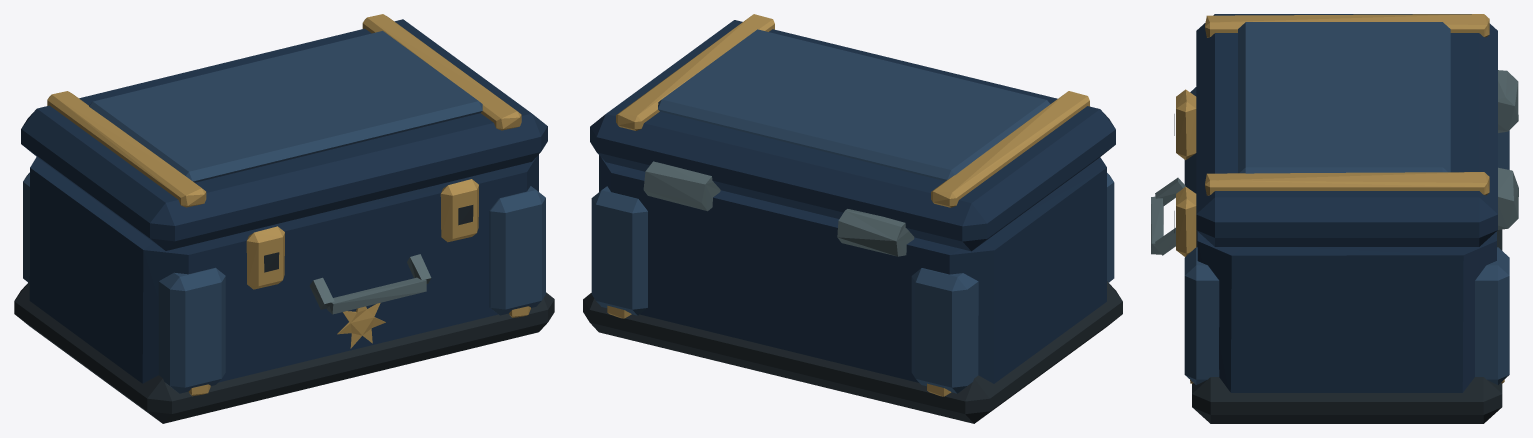
Rendered from FERNSTONE_WEAPON_CASE.lo.glb.
3 views of the same model, side by side, from view 1: azimuth 30°, elevation 25°; view 2: azimuth 150°, elevation 25°; view 3: azimuth 270°, elevation 25° (orthographic). The views are drawn at different scales.
Visible parts, largest first — view 1: Body_Mesh, LidPivot_Mesh; view 2: Body_Mesh, LidPivot_Mesh; view 3: LidPivot_Mesh, Body_Mesh.
Boxes of the visible parts, x1=… form: Body_Mesh: x1=14, y1=155, x2=554, y2=423; LidPivot_Mesh: x1=21, y1=14, x2=547, y2=250; Body_Mesh: x1=583, y1=155, x2=1122, y2=423; LidPivot_Mesh: x1=590, y1=14, x2=1115, y2=251; LidPivot_Mesh: x1=1196, y1=14, x2=1497, y2=246; Body_Mesh: x1=1151, y1=70, x2=1518, y2=423.
Bounding box in the file's own units: 1.68 × 0.9025 × 1.28.
